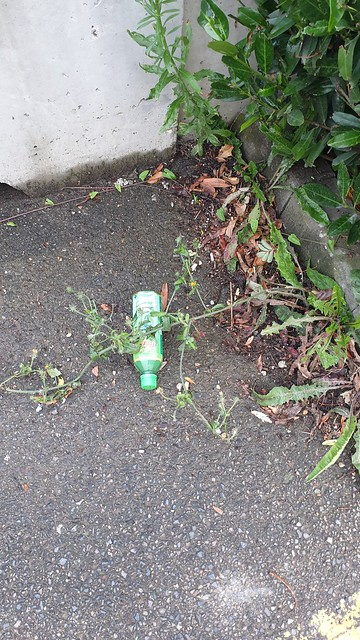bottle: (124, 281, 169, 398)
